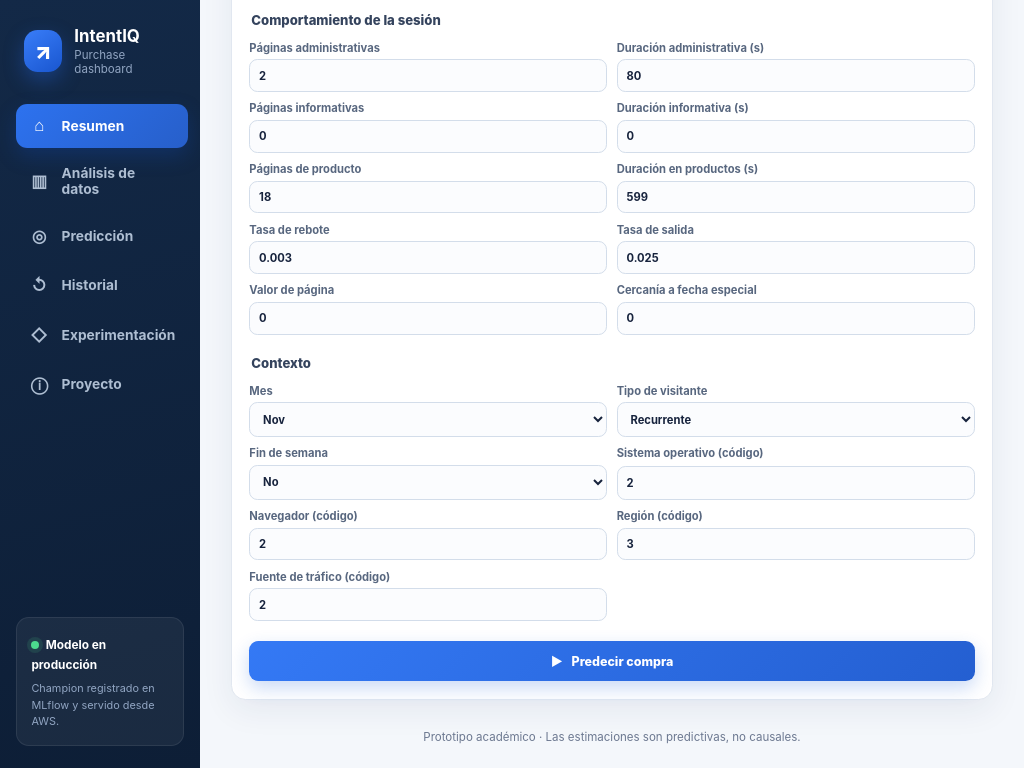
Test: stores successful predictions in the local history
(page scrolled)
Click the button "▶ Predecir compra" at [612, 661], box [249,641,975,681]
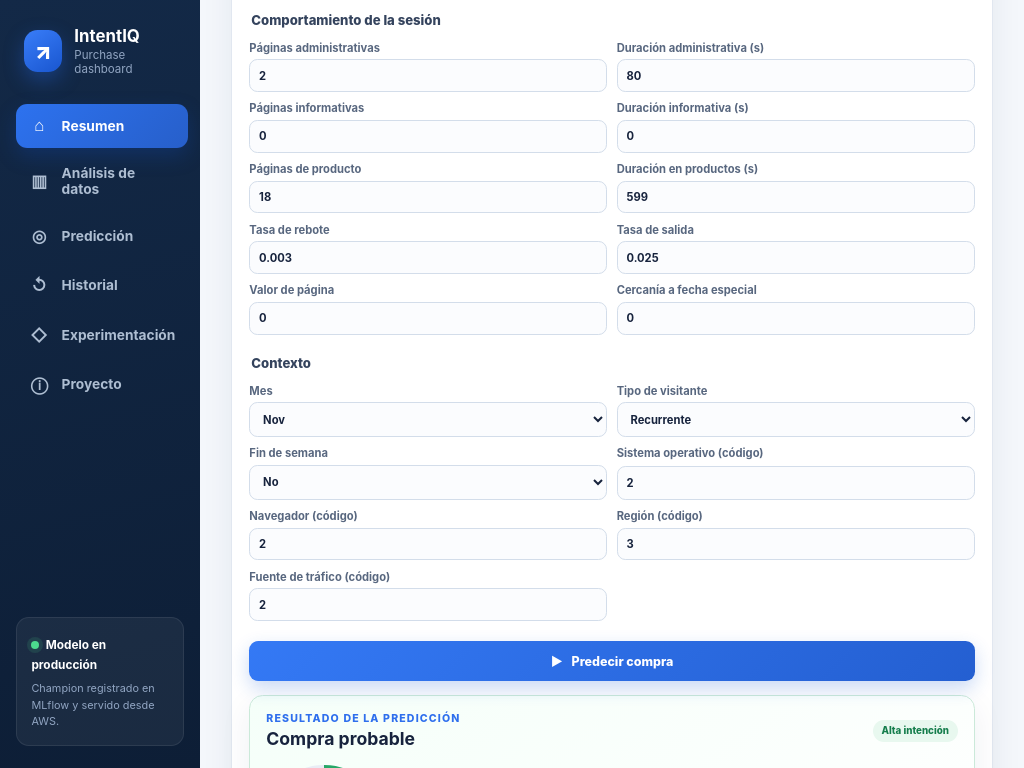
Expected: the heading "Compra probable" is shown, [266,728,415,749]
Click the button "↺ Historial" at [102, 285], box [16,263,188,307]
(page scrolled)
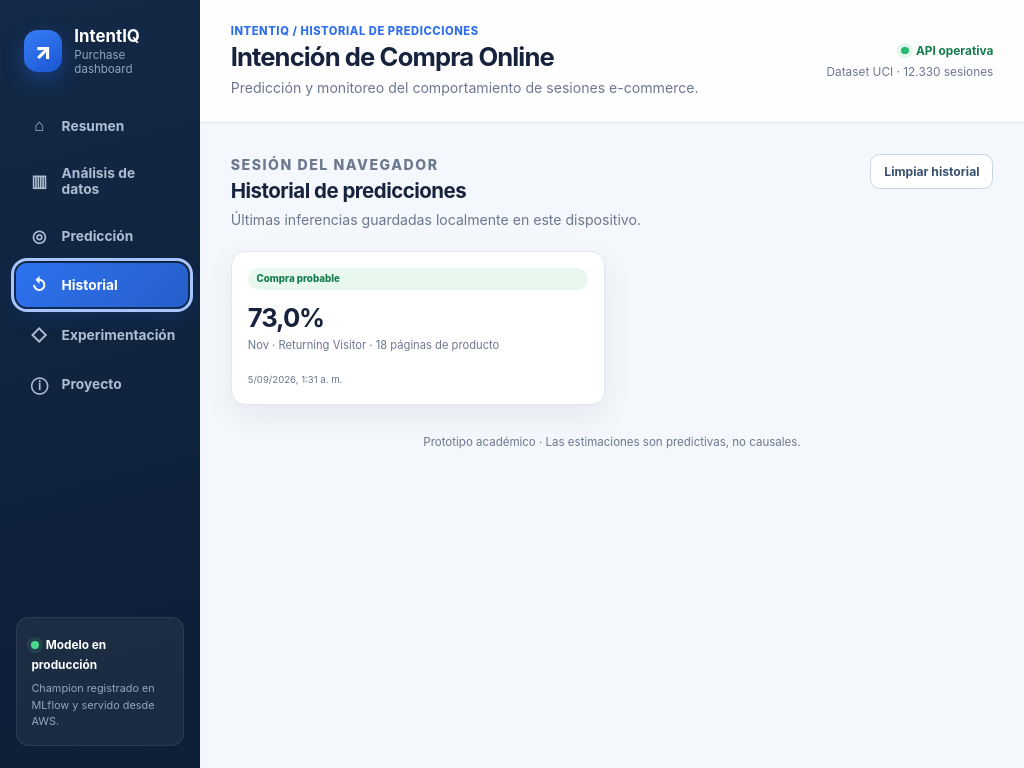
Expected: the text "73,0%" is shown, [248,302,324,333]
Expected: the heading "Historial de predicciones" is shown, [231,178,466,203]
